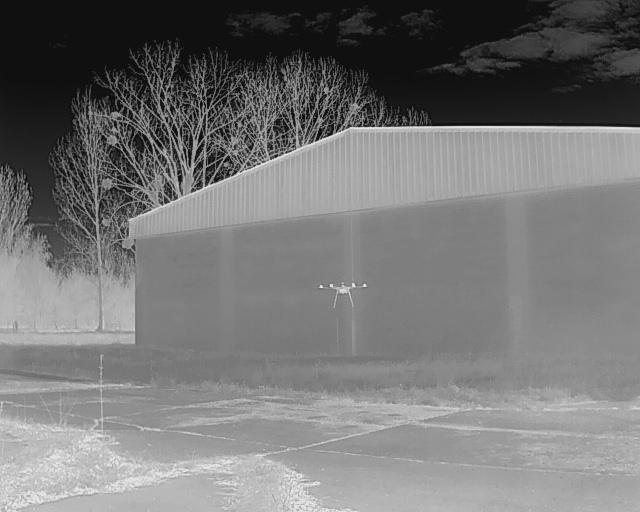drone: (311, 276, 376, 310)
